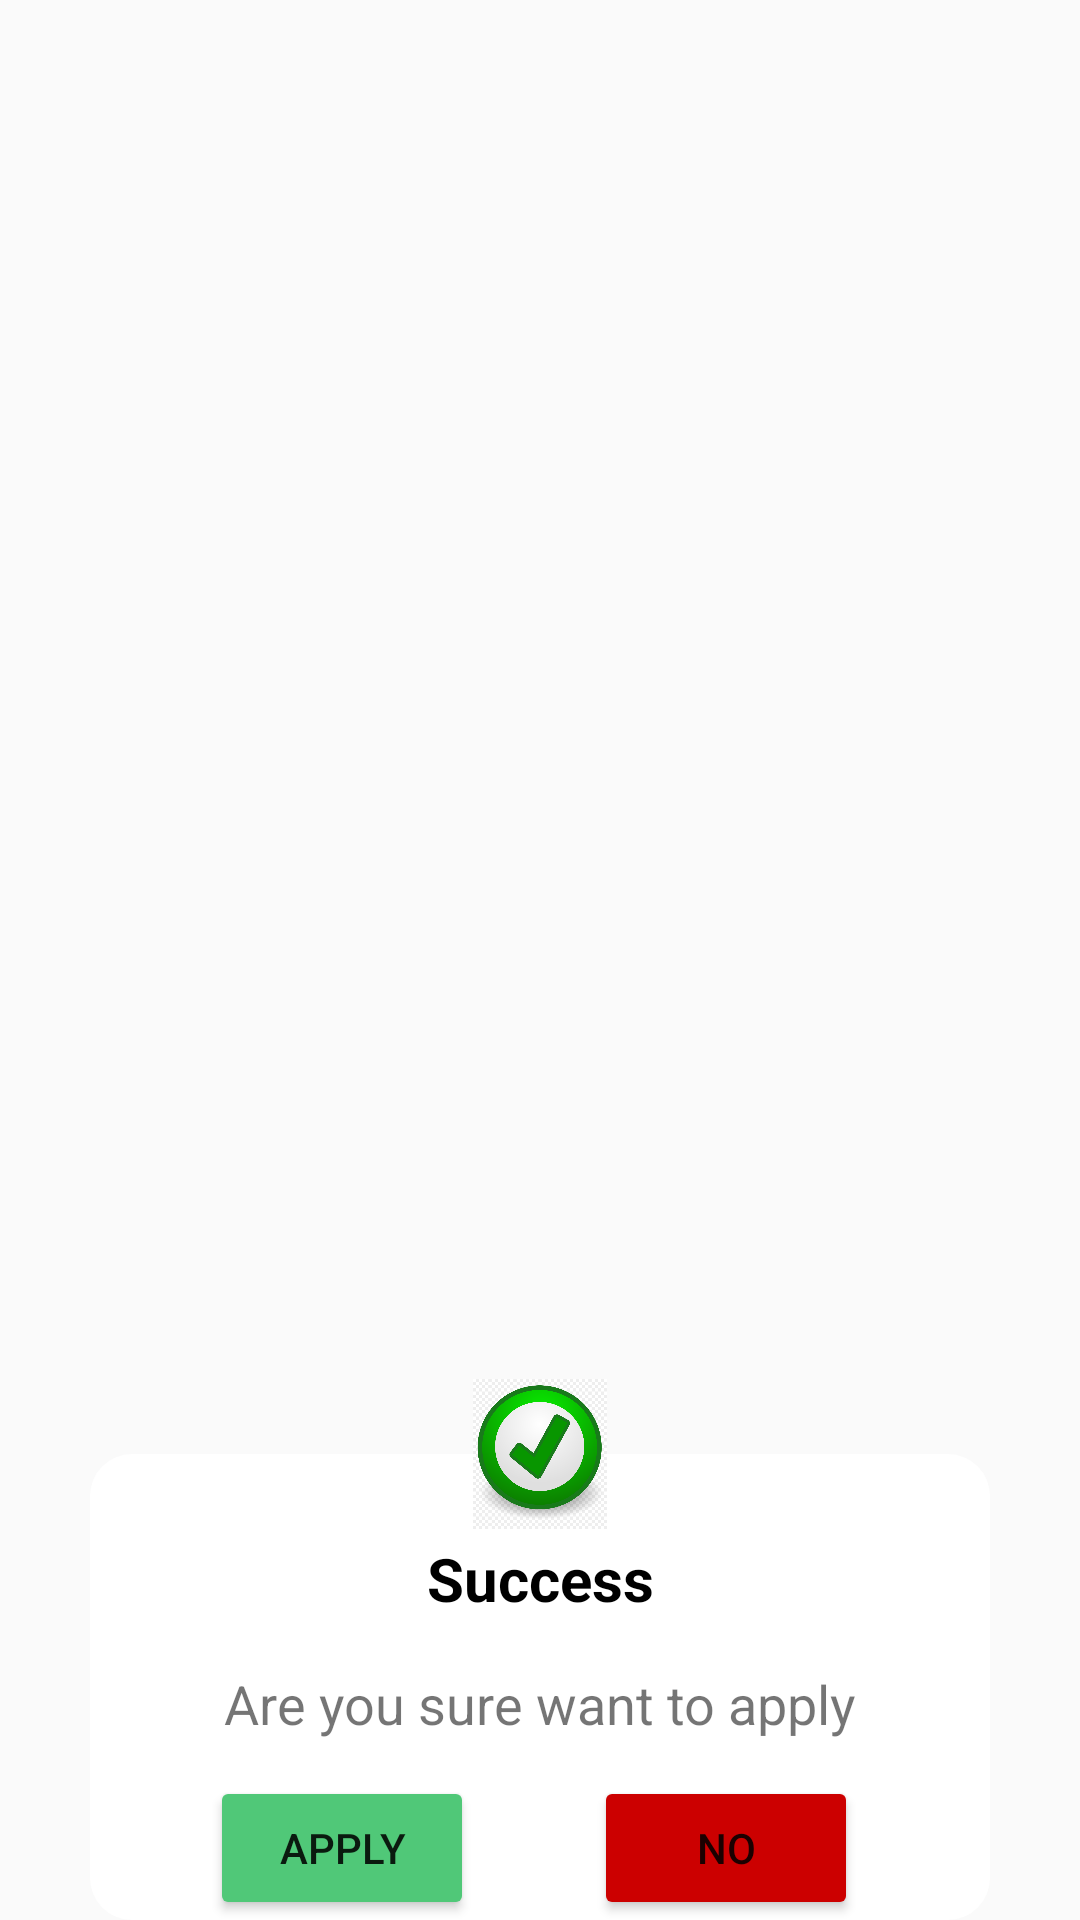

Where to tap for icons on this 1080w x 1920h app screen, as (x,y):
sucess: (539,1451)
